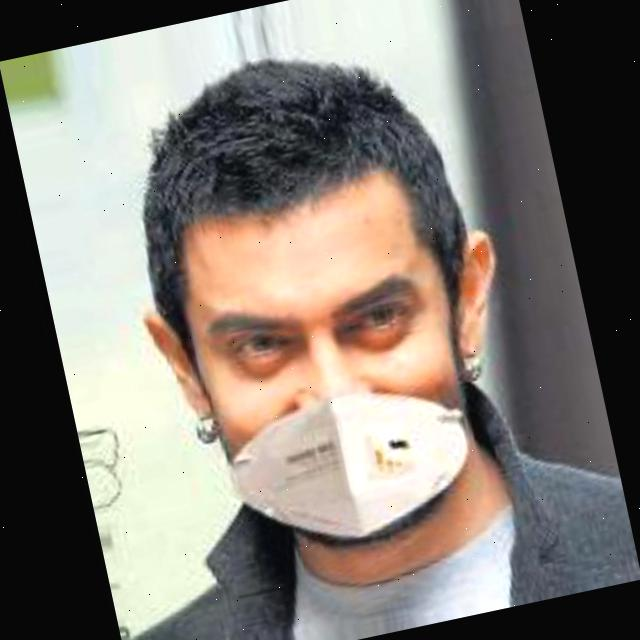suspicion: (90, 46, 525, 599)
